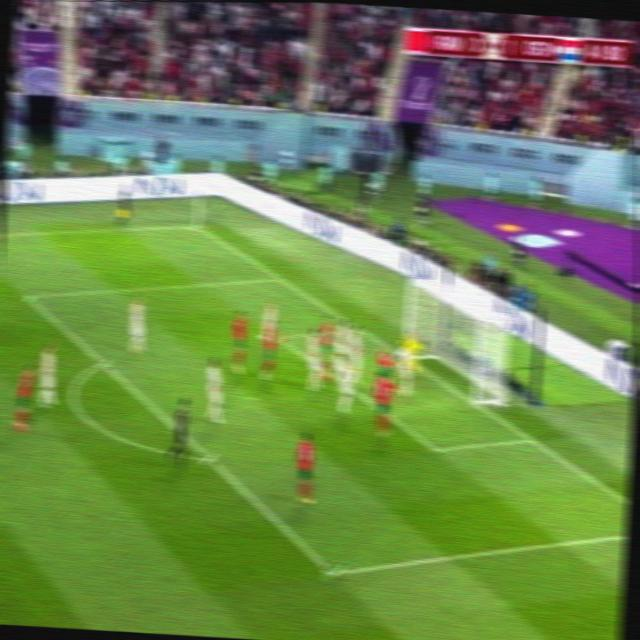bigarea_bottom_inner: (322, 557, 345, 590)
bigarea_top_inner: (21, 288, 35, 304)
bigarea_top_outter: (273, 272, 289, 285)
bottom_arc_area_intersection: (200, 448, 217, 468)
corner: (190, 221, 205, 231)
smallarea_bottom_inner: (426, 436, 446, 462)
smallarea_bottom_outter: (523, 429, 541, 448)
smallarea_top_inner: (270, 332, 287, 344)
smallarea_top_outter: (356, 322, 370, 335)
top_arc_area_intersection: (97, 354, 111, 370)
